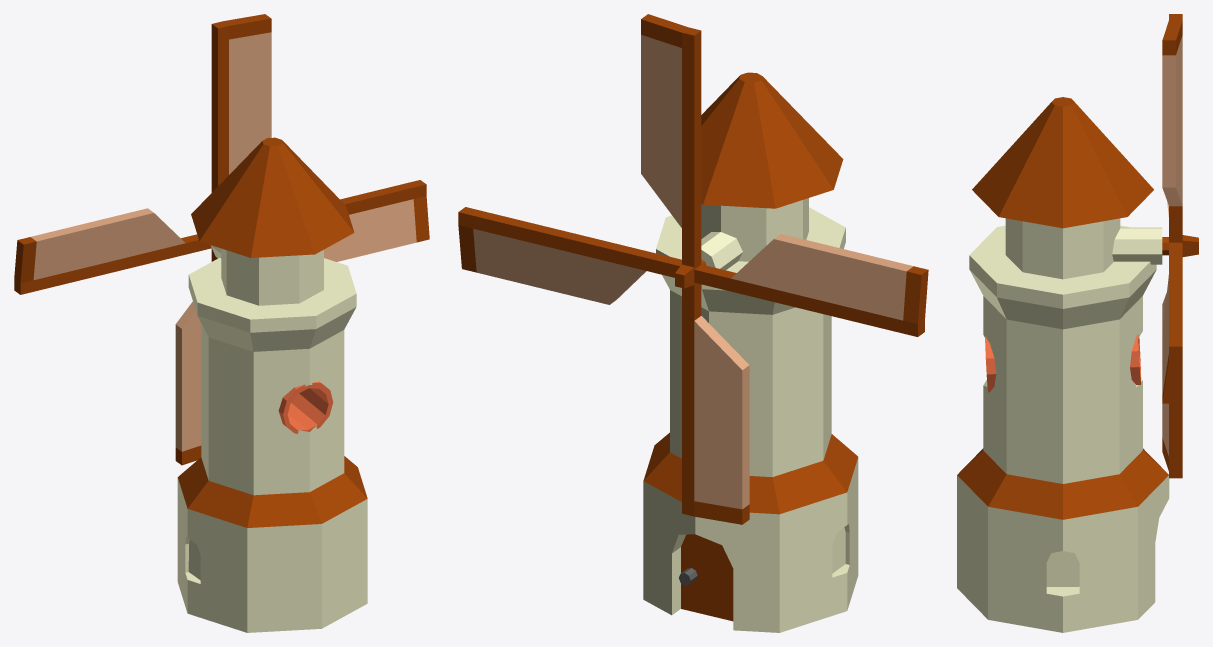
The model's file is Windmill.glb.
3 renders of one model, left to right at view 1: azimuth 30°, elevation 25°; view 2: azimuth 150°, elevation 25°; view 3: azimuth 270°, elevation 25°, orthographic. The views are drawn at different scales.
Parts seen in each view (by area): view 1: Cylinder, Cube.001, Cylinder.003; view 2: Cylinder, Cube.001, Cylinder.002; view 3: Cylinder, Cube.001, Cylinder.002, Cylinder.003.
Boxes of the visible parts, box(x1,y1,x2,y2) form: Cylinder: box(177, 137, 367, 632); Cube.001: box(14, 14, 429, 465); Cylinder.003: box(278, 381, 333, 433); Cylinder: box(643, 72, 858, 632); Cube.001: box(458, 14, 928, 524); Cylinder.002: box(701, 232, 742, 284); Cylinder: box(957, 97, 1169, 632); Cube.001: box(1162, 14, 1198, 478); Cylinder.002: box(1112, 227, 1168, 264); Cylinder.003: box(985, 334, 1141, 392).
Bounding box in the file's own units: 6.14 × 7.65 × 2.94.
